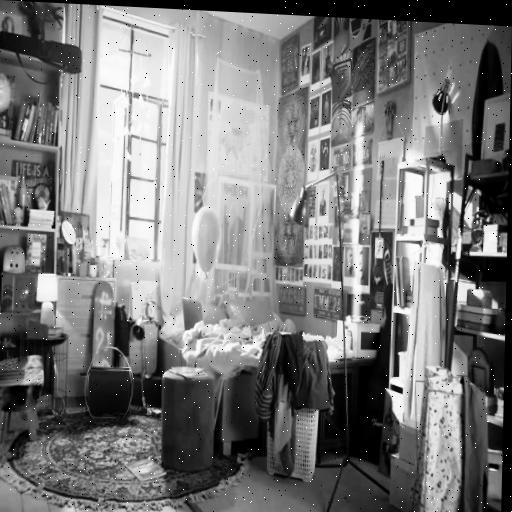balloon: (191, 207, 220, 273)
